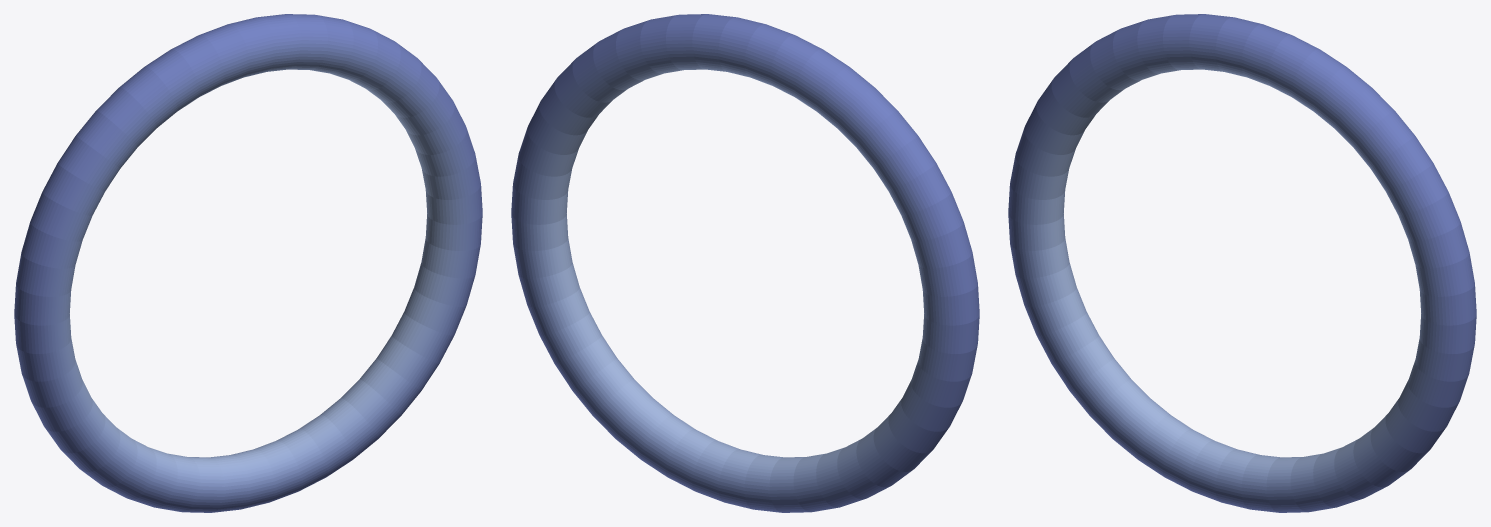
The picture shows the model from 3 angles, left to right: view 1: azimuth 30°, elevation 25°; view 2: azimuth 150°, elevation 25°; view 3: azimuth 330°, elevation 25°; orthographic projection.
Visible parts, largest first — view 1: world; view 2: world; view 3: world.
Part boxes in pixels (x1,y1,x2,y2): world: (14, 14, 482, 512); world: (511, 14, 979, 512); world: (1008, 14, 1476, 512).
Size of the model in its own units: 26.8 by 26.75 by 2.79.
